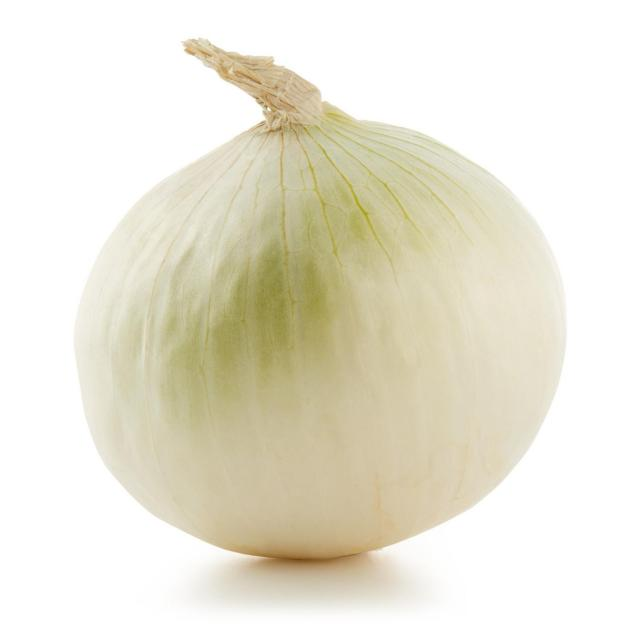onion: (72, 34, 568, 560)
